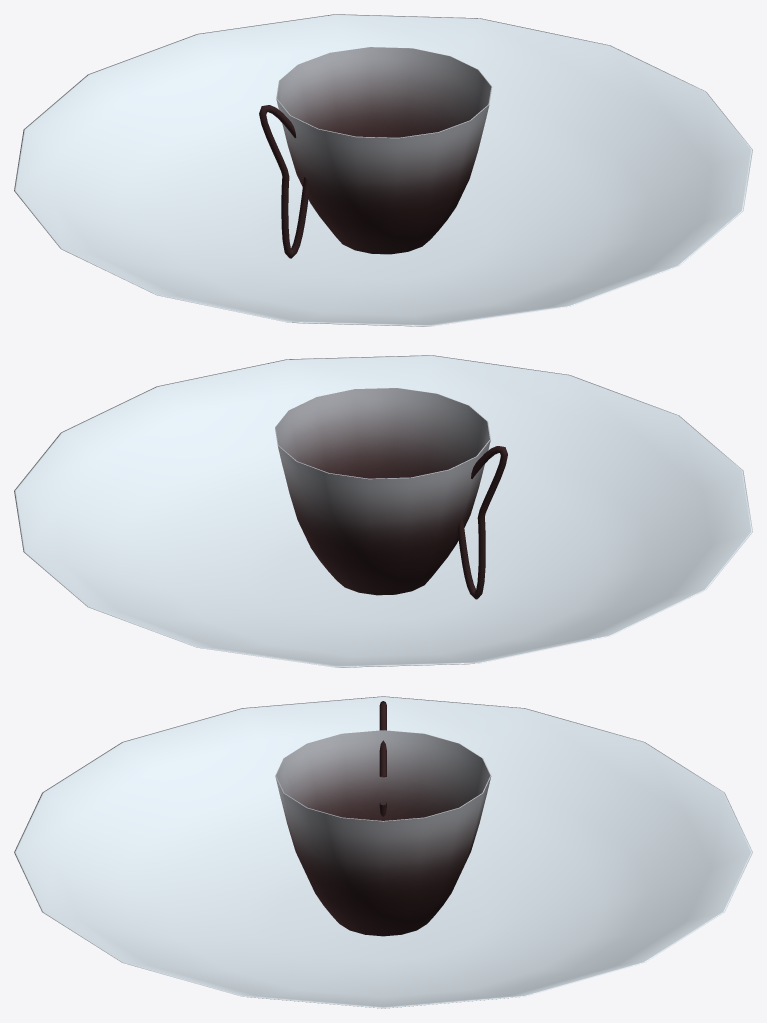
Rendered from Taza.fbx.
3 views of the same model, one above another, from view 1: azimuth 30°, elevation 25°; view 2: azimuth 150°, elevation 25°; view 3: azimuth 270°, elevation 25° (orthographic).
Parts seen in each view (by area): view 1: Taza; view 2: Taza; view 3: Taza.
Part boxes in pixels (x1=…): Taza: x1=14, y1=14, x2=752, y2=326; Taza: x1=14, y1=355, x2=752, y2=667; Taza: x1=14, y1=696, x2=752, y2=1008.
Bounding box in the file's own units: 27.8 × 6.72 × 27.8.
Materials: 1 (1 with a texture image).
